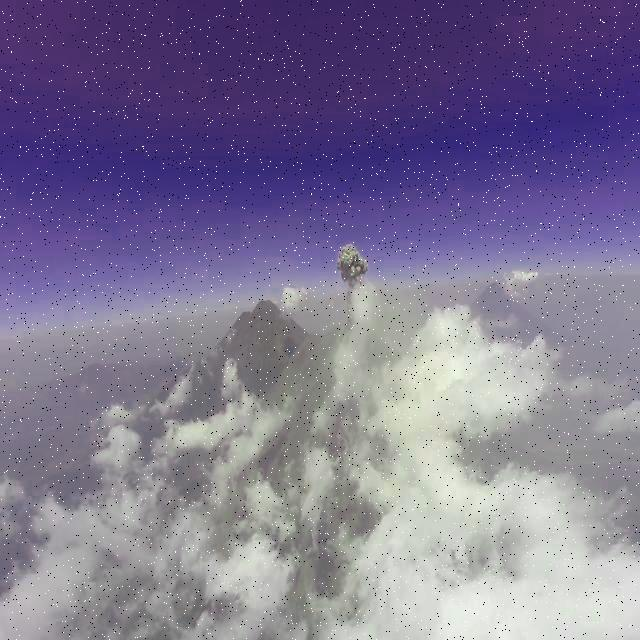Plume: (336, 240, 371, 292)
